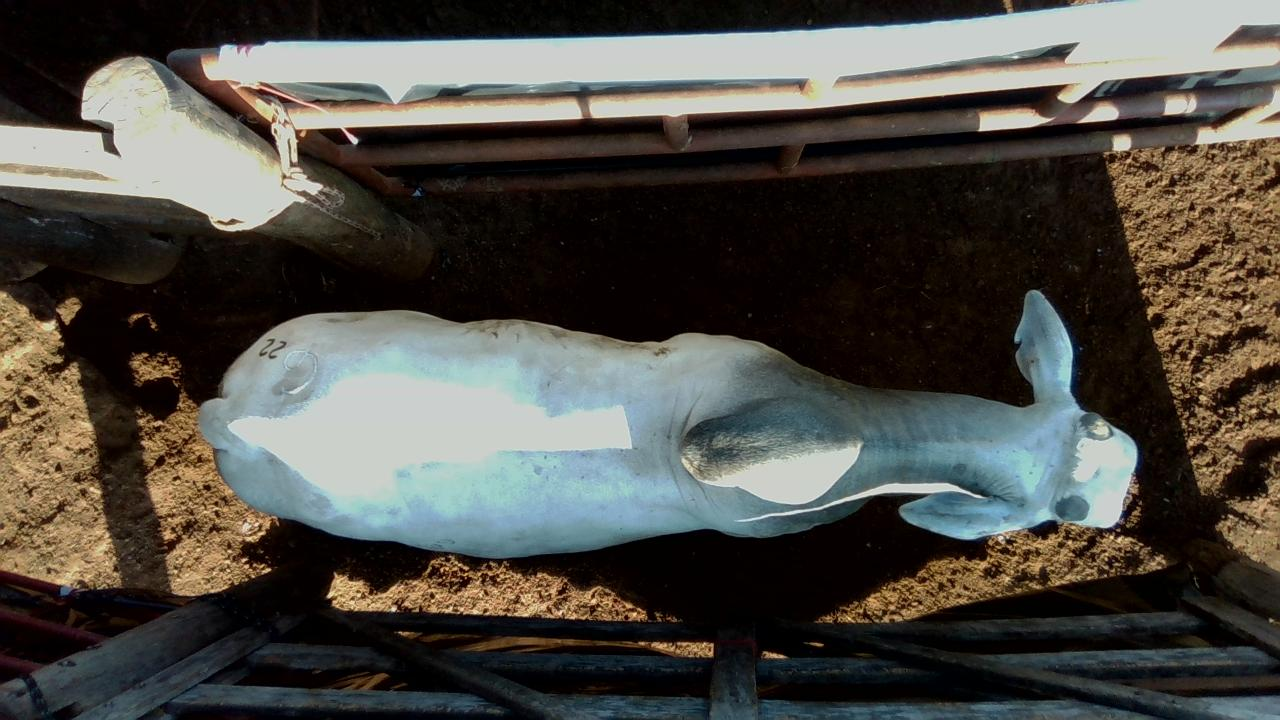cattle: (197, 288, 1140, 559)
